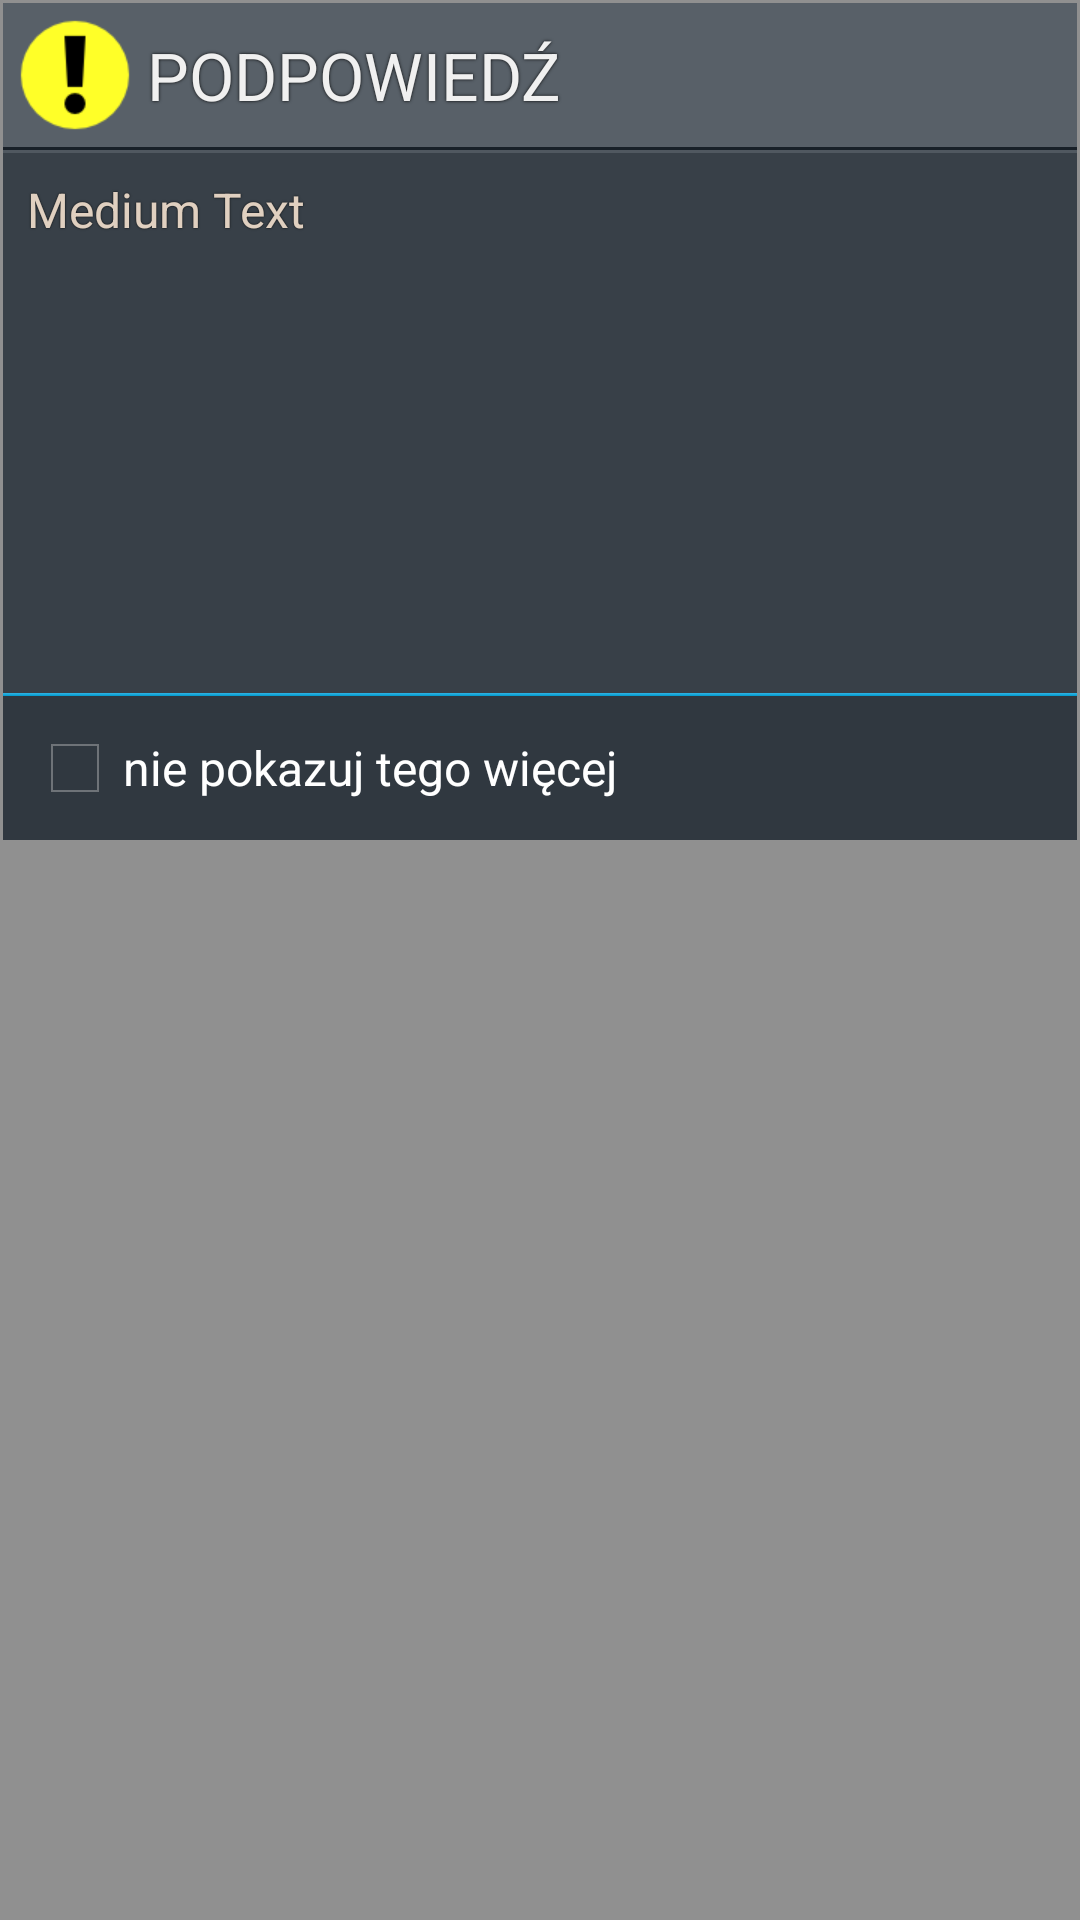

Icon bounding boxes for this 1080w x 1920h phone screenshot, format Rect(x1, y1, x2, y2):
hint: Rect(20, 20, 130, 130)
